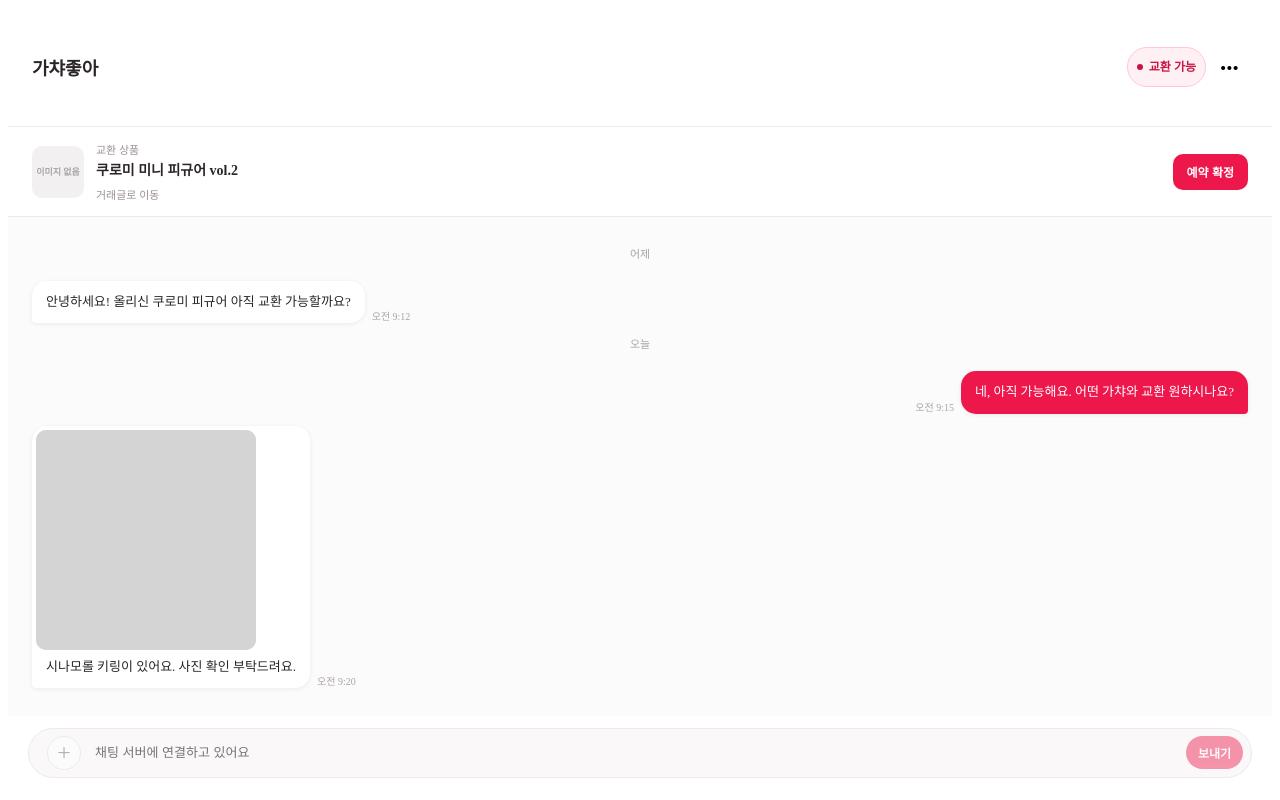
Test: ChatRoomPanel › 상태 변경에 실패하면 서버 오류를 표시한다
Click the button "예약 확정". click: (1210, 172)
box: [1172,154,1248,190]
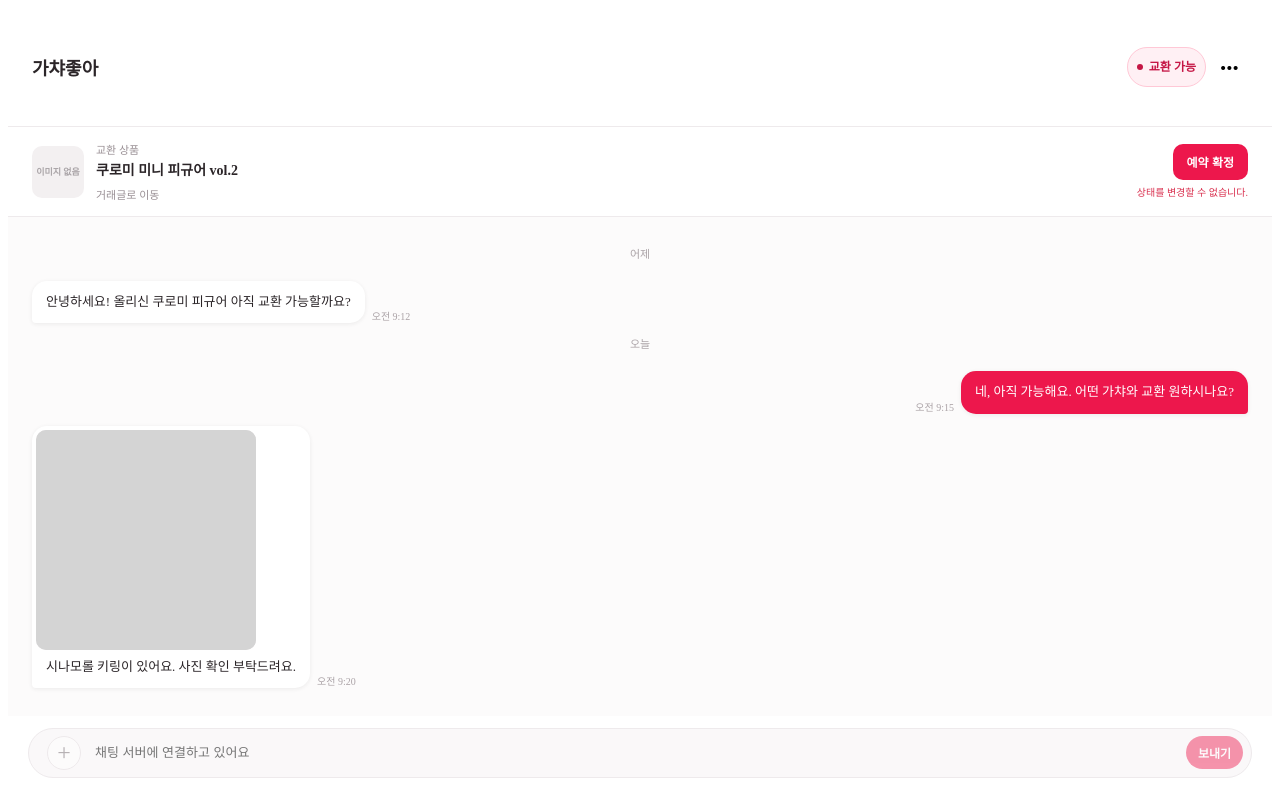
Expected: the message reads "상태를 변경할 수 없습니다.", [1137,187,1248,198]
